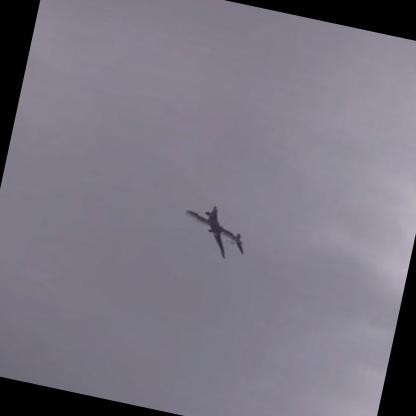plane: (174, 198, 253, 263)
